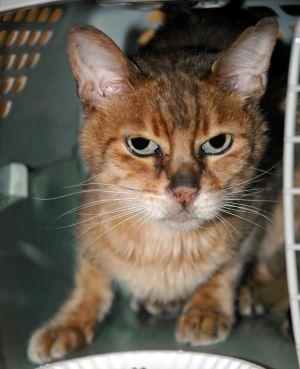bengal: (53, 5, 294, 236)
